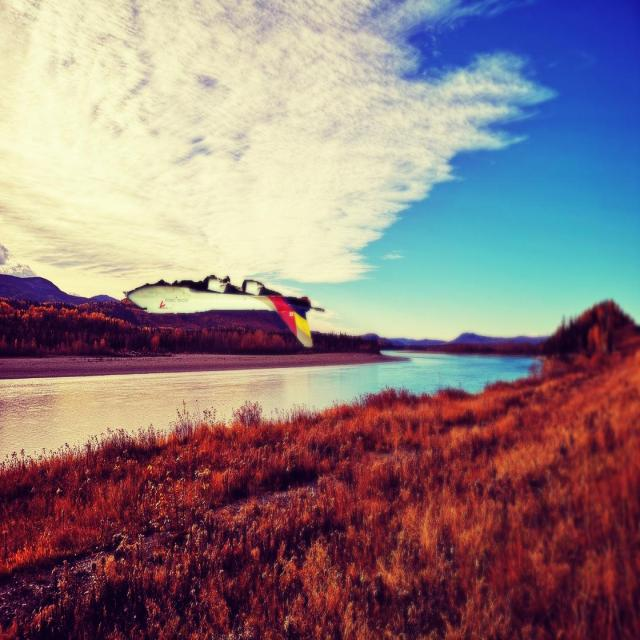airplane: (122, 274, 325, 348)
